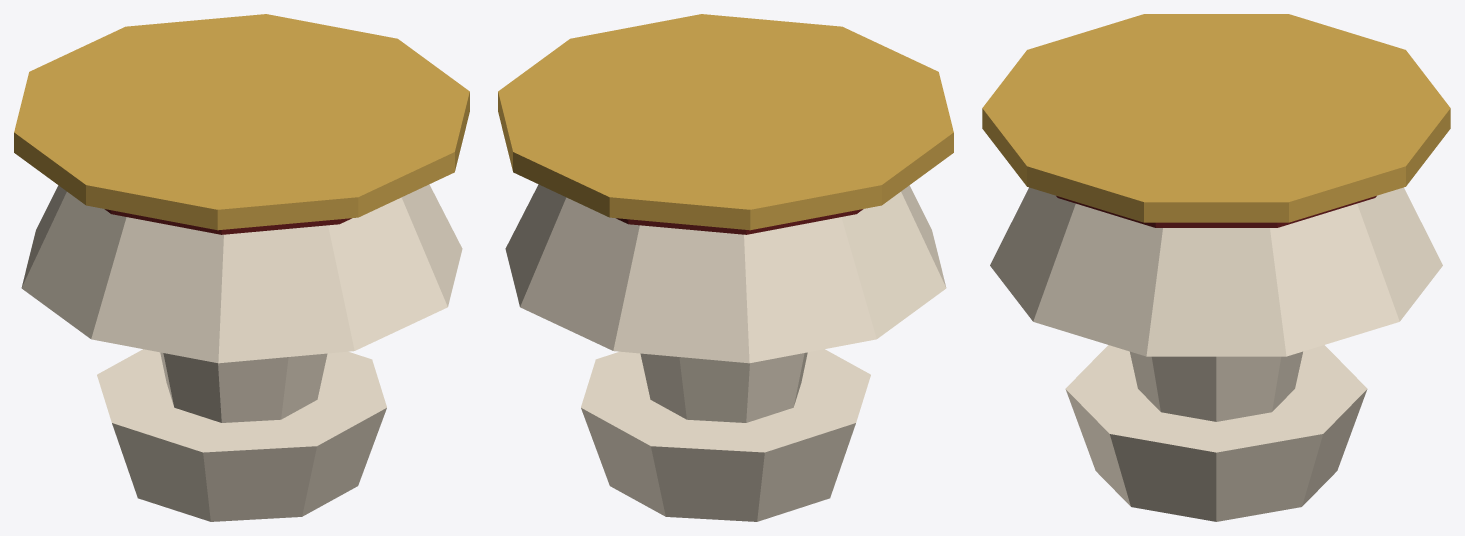
File: prop_arena_cup.glb
The picture shows the model from 3 angles, left to right: view 1: azimuth 30°, elevation 25°; view 2: azimuth 150°, elevation 25°; view 3: azimuth 270°, elevation 25°; orthographic projection.
Parts seen in each view (by area): view 1: prop_arena_cup; view 2: prop_arena_cup; view 3: prop_arena_cup.
Boxes of the visible parts, bbox=[...] form: prop_arena_cup: bbox=[14, 14, 469, 521]; prop_arena_cup: bbox=[498, 14, 953, 521]; prop_arena_cup: bbox=[982, 14, 1450, 521].
Size of the model in its own units: 0.5897 by 0.53 by 0.62.
